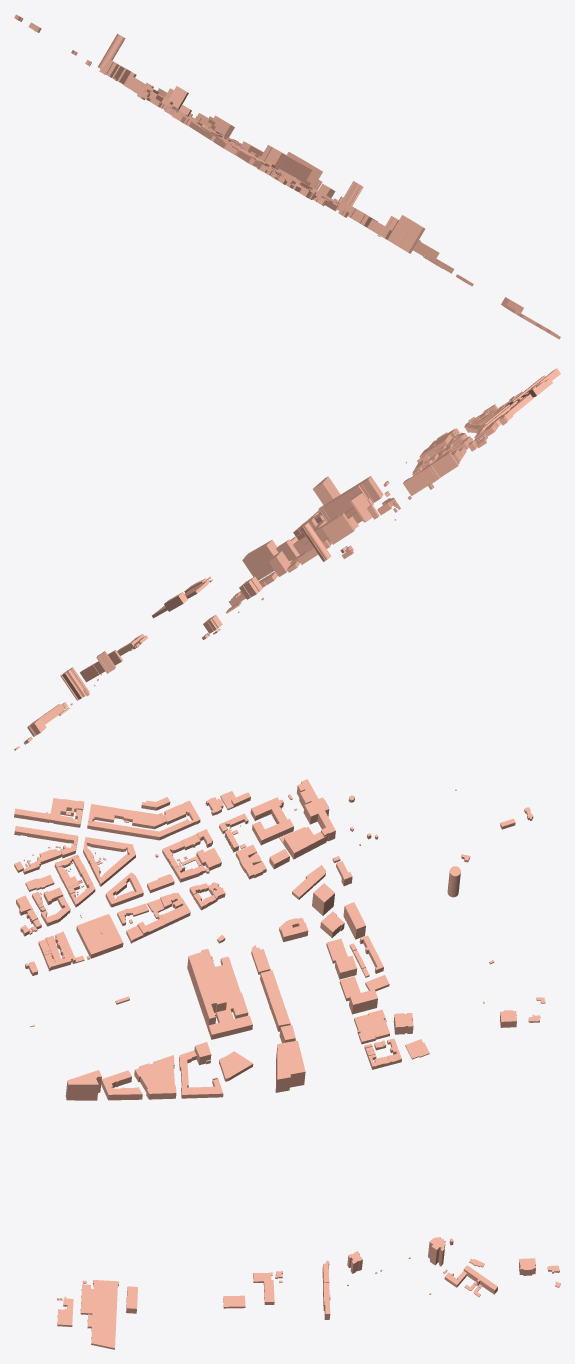
The picture shows the model from 3 angles, top to bottom: view 1: azimuth 30°, elevation 25°; view 2: azimuth 150°, elevation 25°; view 3: azimuth 270°, elevation 25°; orthographic projection. The views are drawn at different scales.
Bounding box in the file's own units: 1077 × 834 × 1145.
